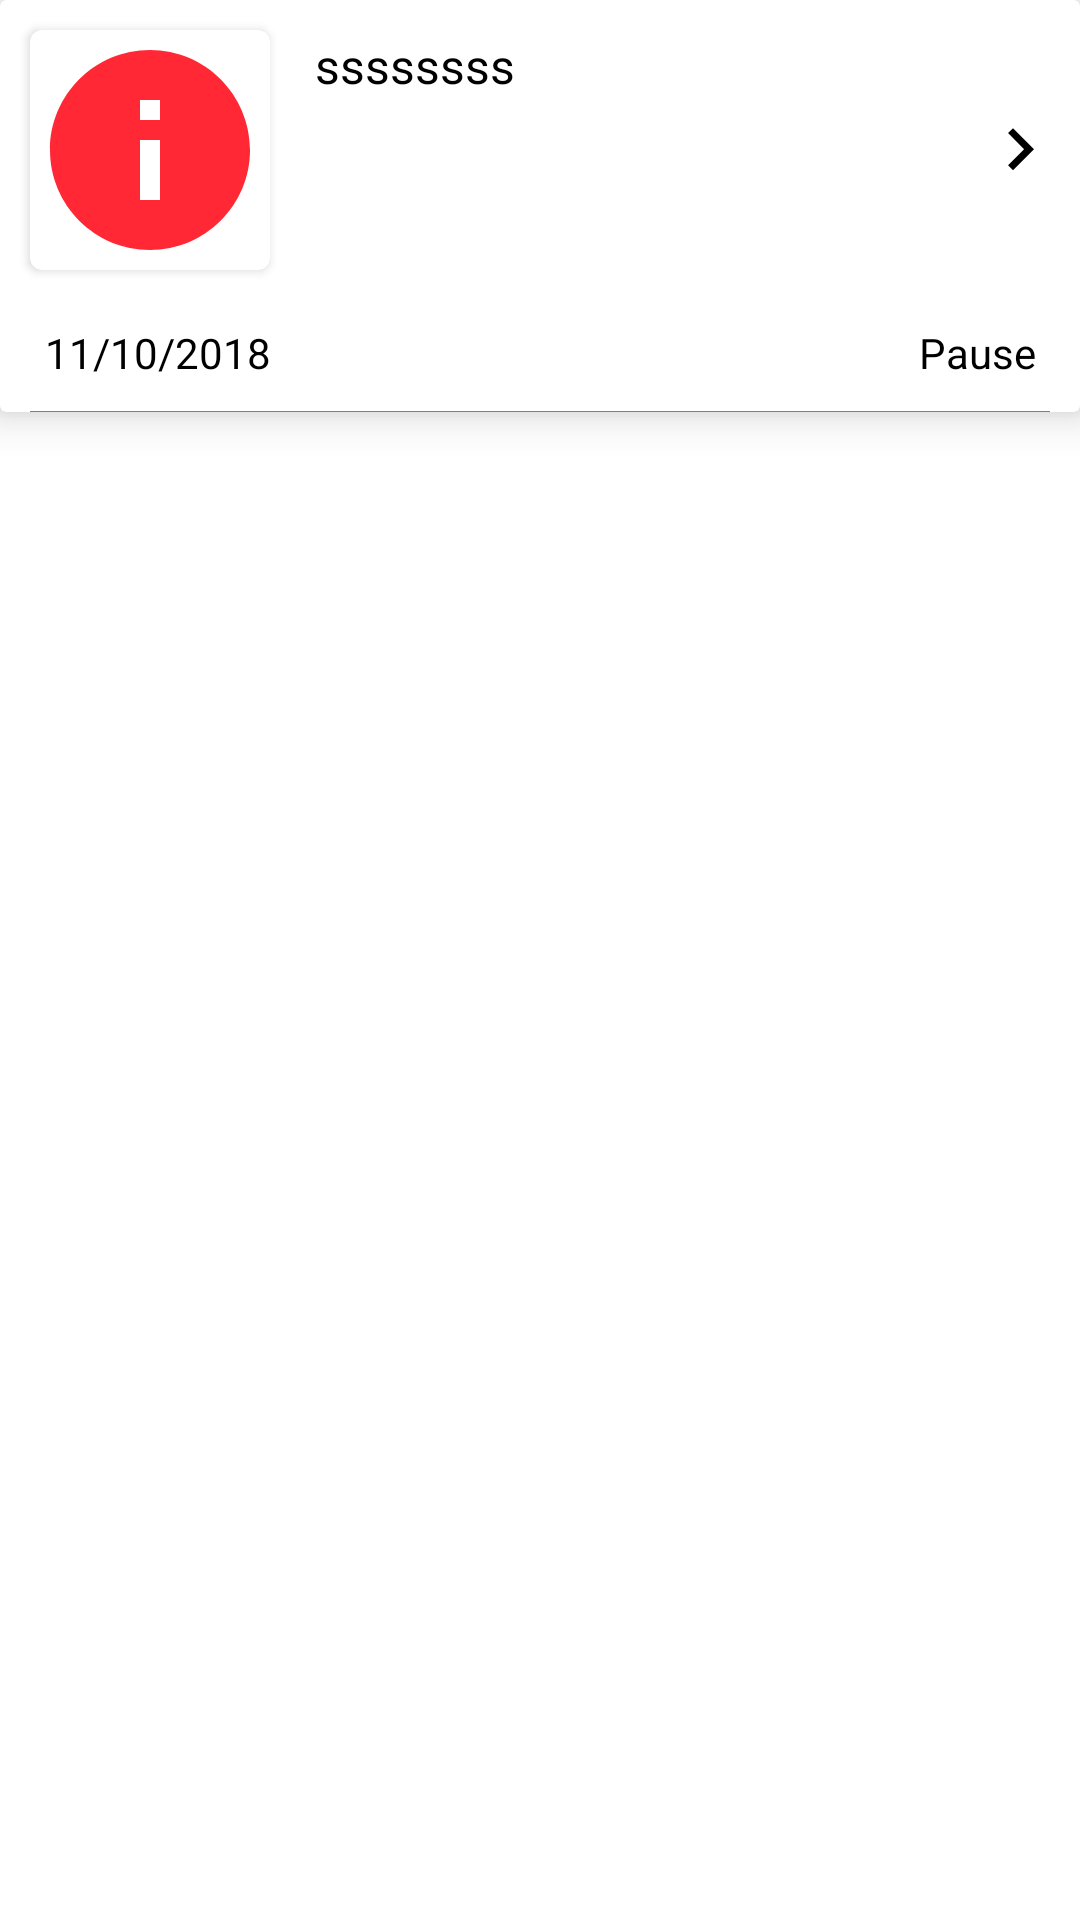

Icon bounding boxes for this 1080×1920 phone screenshot, format detection(x1, y1, x2, y2):
info: detection(30, 50, 250, 263)
